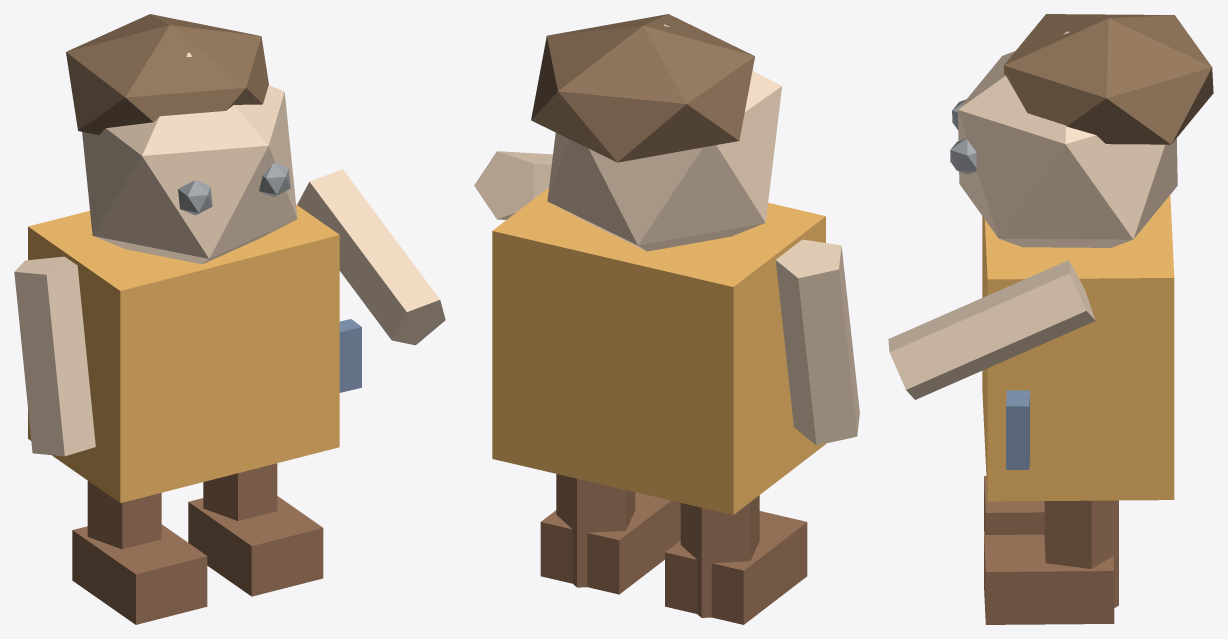
Rendered from npcpose_villager_wave_01.glb.
3 views of the same model, side by side, from view 1: azimuth 30°, elevation 25°; view 2: azimuth 150°, elevation 25°; view 3: azimuth 270°, elevation 25° (orthographic). The views are drawn at different scales.
Parts seen in each view (by area): view 1: npcpose; view 2: npcpose; view 3: npcpose.
Part boxes in pixels (<box>): npcpose: <box>14,14,445,624</box>; npcpose: <box>474,14,859,624</box>; npcpose: <box>888,14,1213,624</box>.
Size of the model in its own units: 0.7207 by 1.06 by 0.5572.
